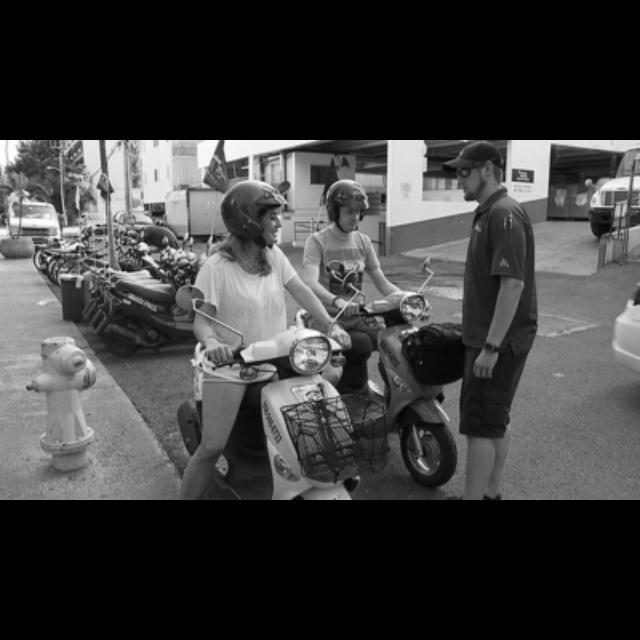With Helmet: (210, 167, 294, 255), (321, 167, 371, 237)
